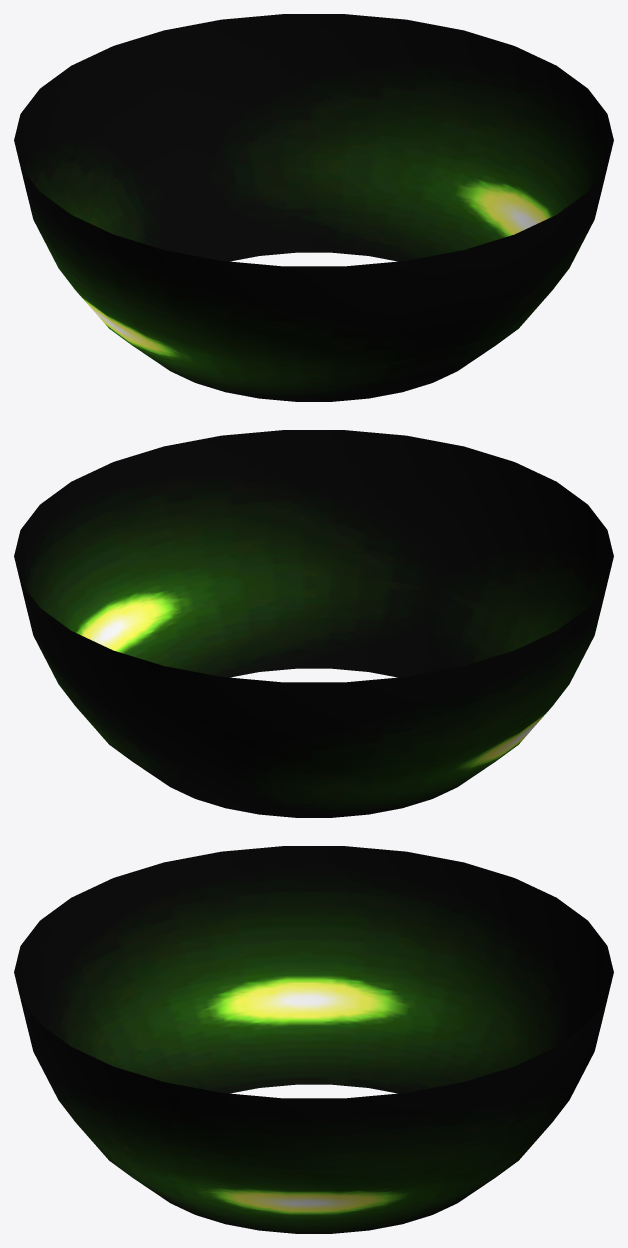
Rendered from 0133_S_FX_Yanliang_Chongjibo_001_Dup.glb.
The picture shows the model from 3 angles, top to bottom: view 1: azimuth 30°, elevation 25°; view 2: azimuth 150°, elevation 25°; view 3: azimuth 270°, elevation 25°; orthographic projection.
Bounding box in the file's own units: 2.19 × 0.7569 × 2.2.
1 material, 1 textured.
